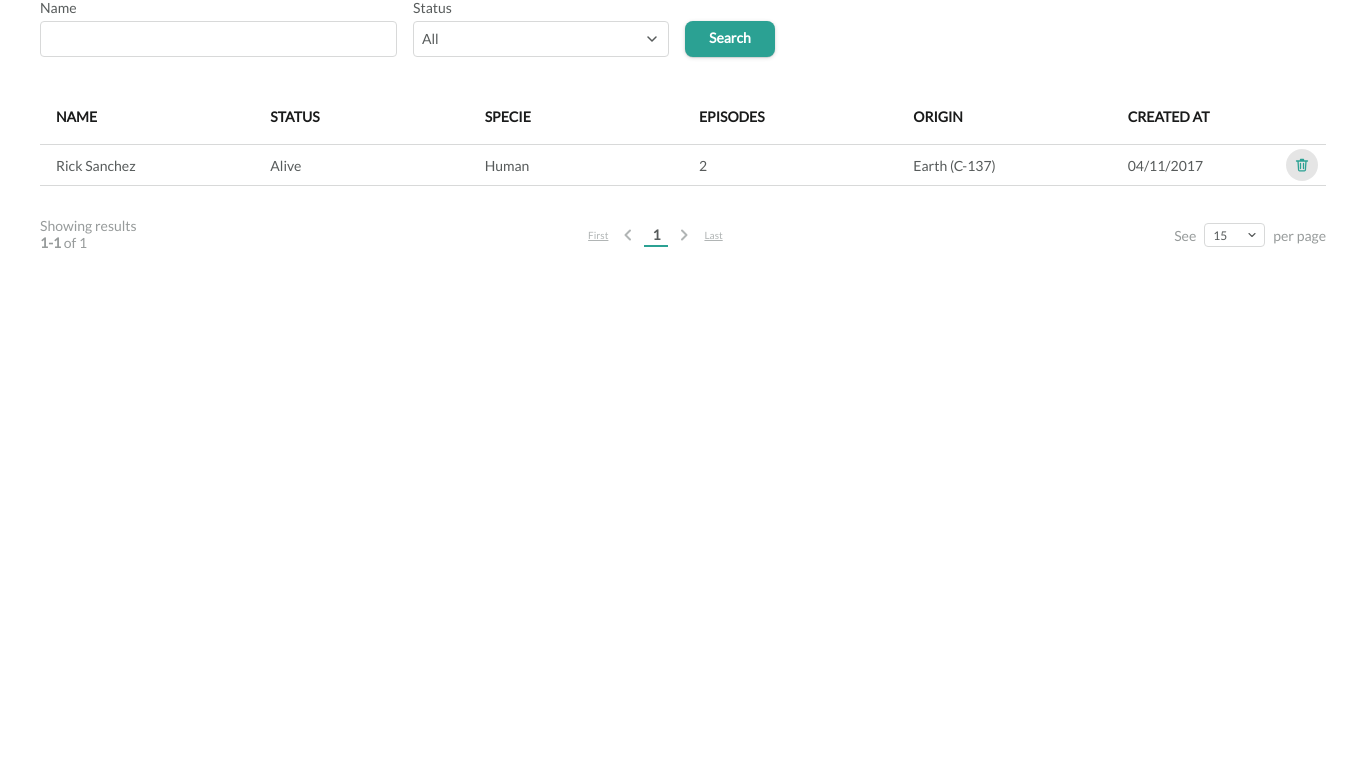
Test case: CharacterList › abre a edição com duplo clique e recarrega a lista depois de salvar
This screenshot has width=1366, height=768.
Step 1. Double-click the cell "Rick Sanchez" → (147, 165), box [40,145,254,186]
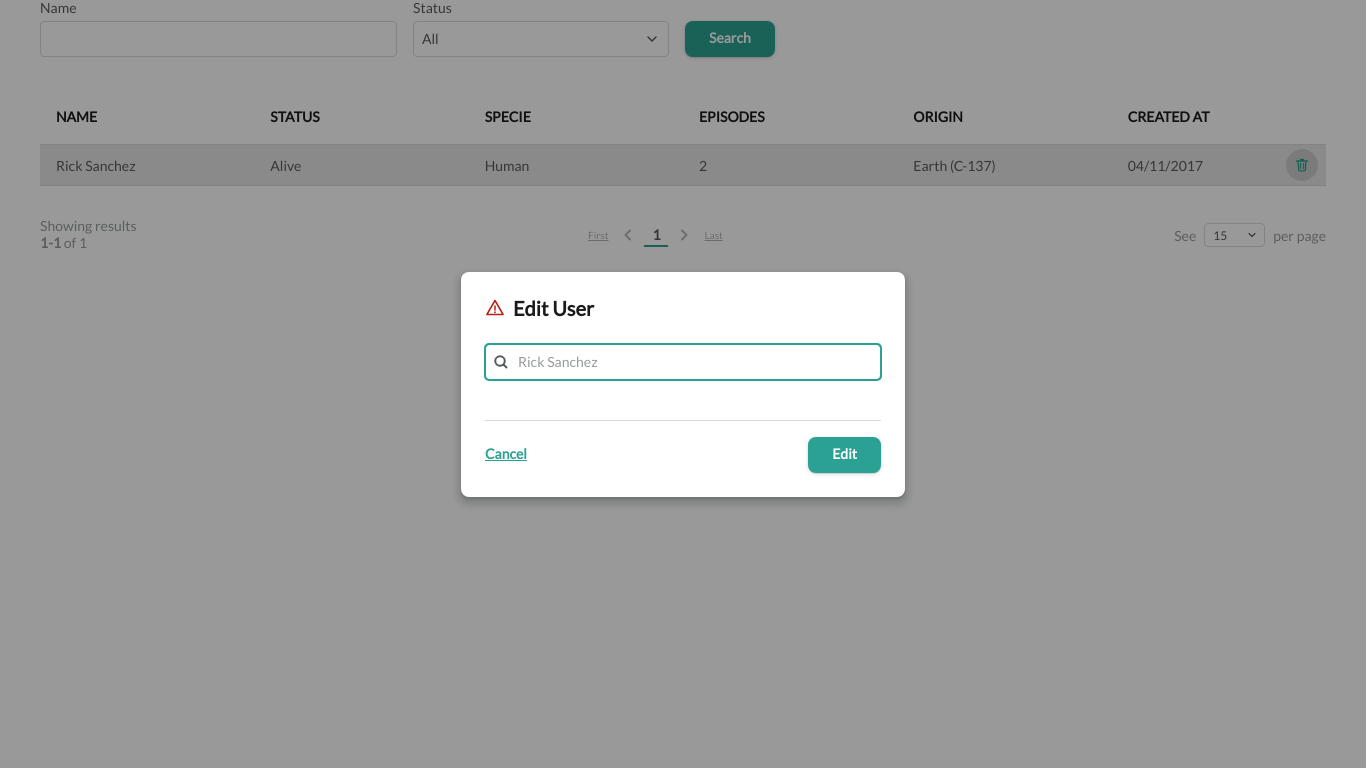
Step 2. Replace the text in the field named "Name" with "Rick C-137" → (683, 362), box [485,344,881,380]
Then press Enter
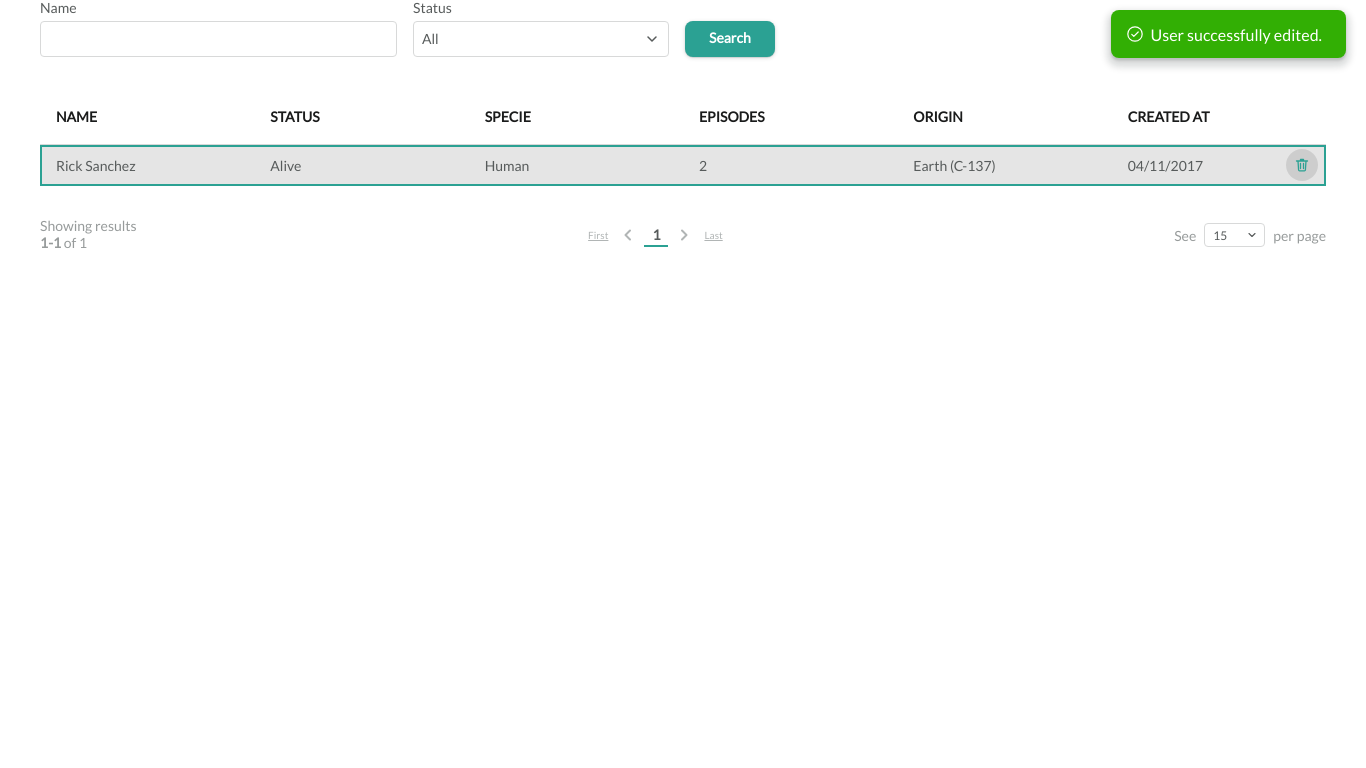
expect the message reads "User successfully edited.": met, box [1150,24,1322,44]
